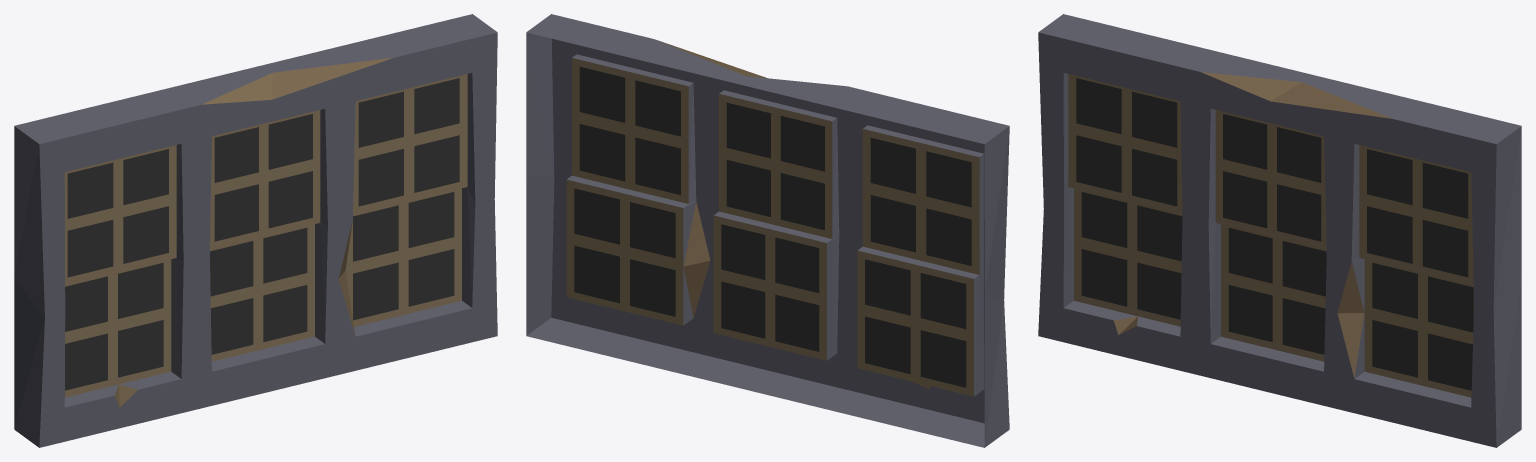
Rendered from SM_Prop_Window_01.glb.
3 views of the same model, side by side, from view 1: azimuth 30°, elevation 25°; view 2: azimuth 150°, elevation 25°; view 3: azimuth 330°, elevation 25° (orthographic).
Parts seen in each view (by area): view 1: SM_Prop_Window_01_part00; view 2: SM_Prop_Window_01_part00; view 3: SM_Prop_Window_01_part00.
Part boxes in pixels (left/top/right/bottom): SM_Prop_Window_01_part00: left=14, top=14, right=497, bottom=447; SM_Prop_Window_01_part00: left=526, top=14, right=1009, bottom=447; SM_Prop_Window_01_part00: left=1038, top=14, right=1521, bottom=447.
Size of the model in its own units: 1.99 by 1.26 by 0.1891.
Materials: 1 (1 with a texture image).
